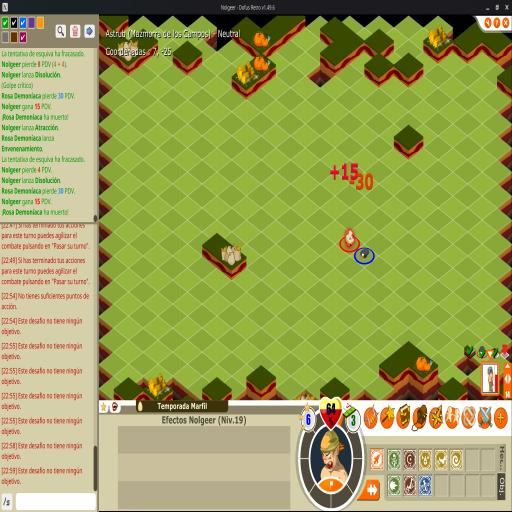Enemigos: (360, 248, 370, 260)
Personaje: (344, 228, 356, 248)
